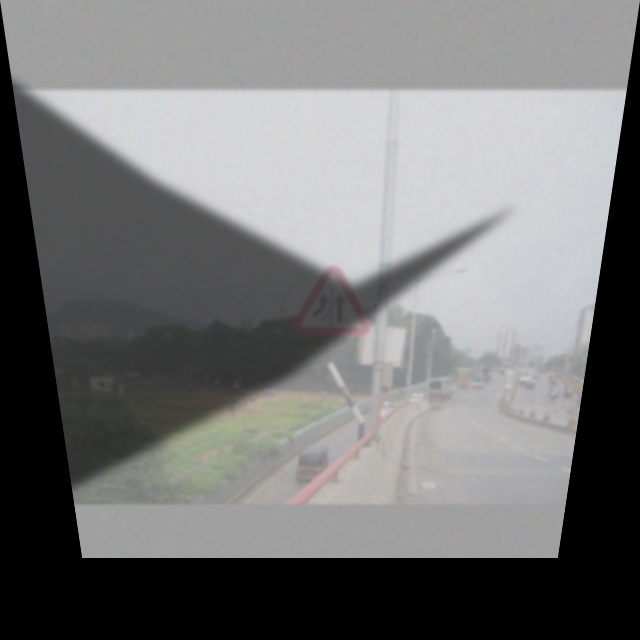Merge_Traffic_Ahead: (288, 257, 369, 342)
